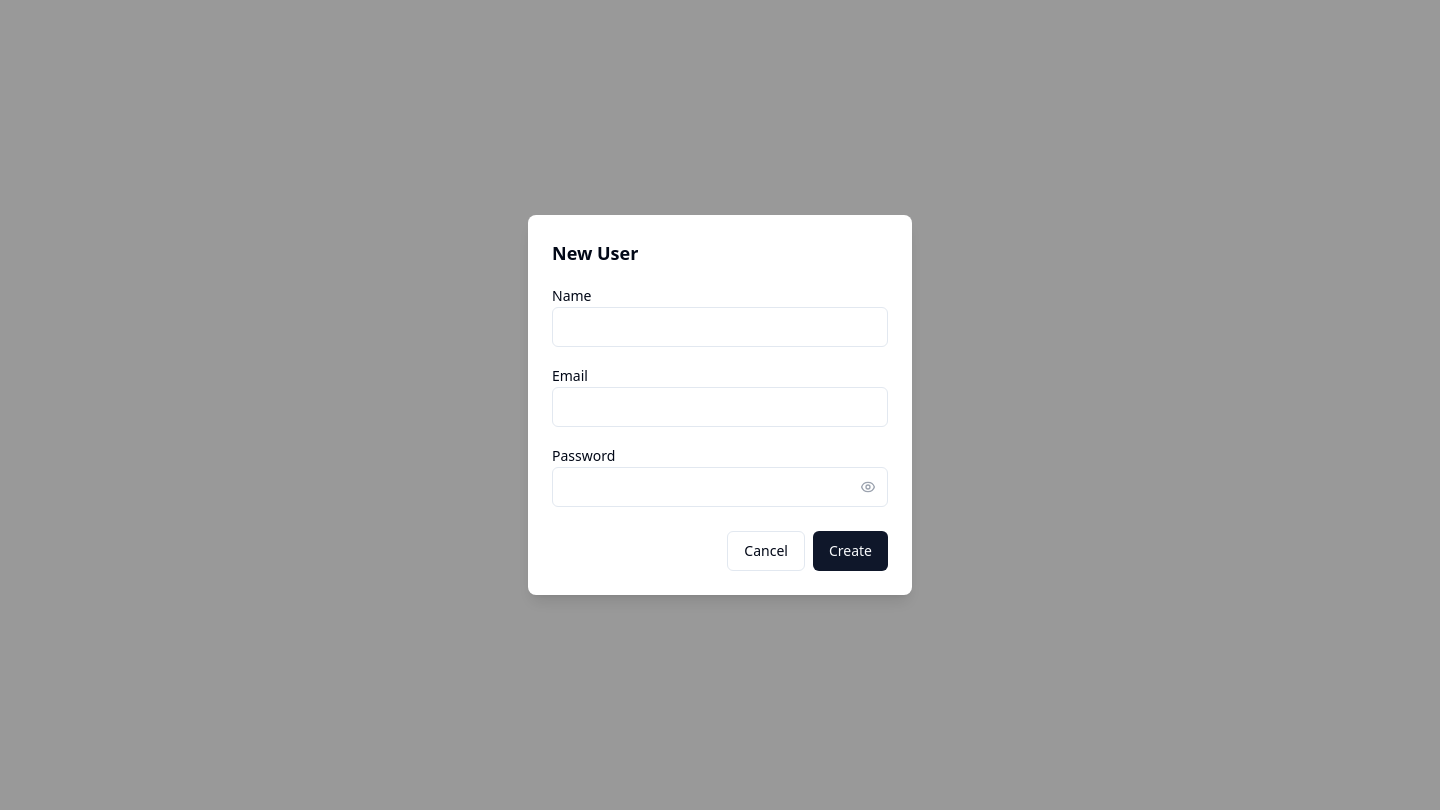
CreateUserModal › validation › shows error when password is less than 8 characters
In the field labelled "Name": (720, 327) [552,307,888,347], type "Alice"
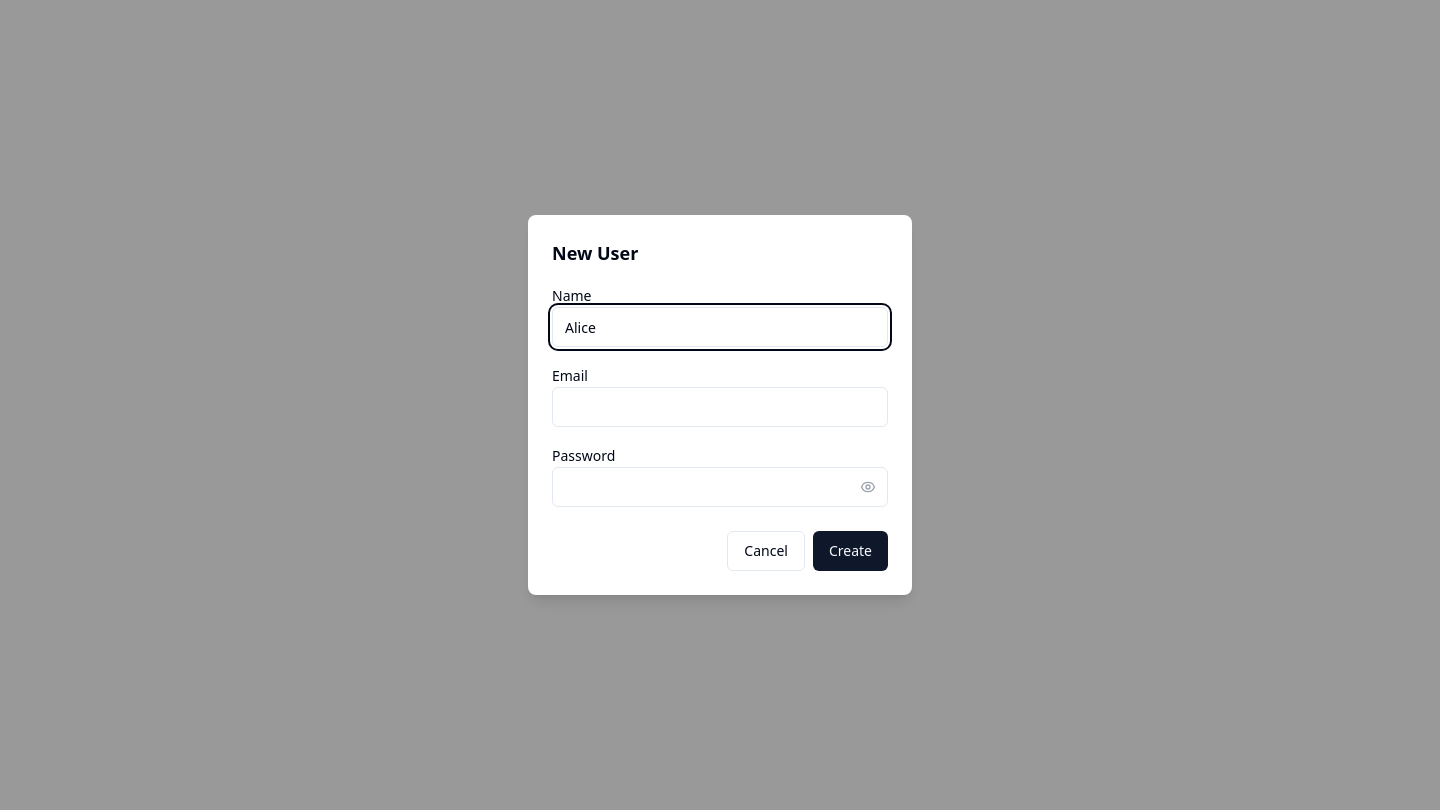
In the field labelled "Email": (720, 407) [552,387,888,427], type "alice@example.com"
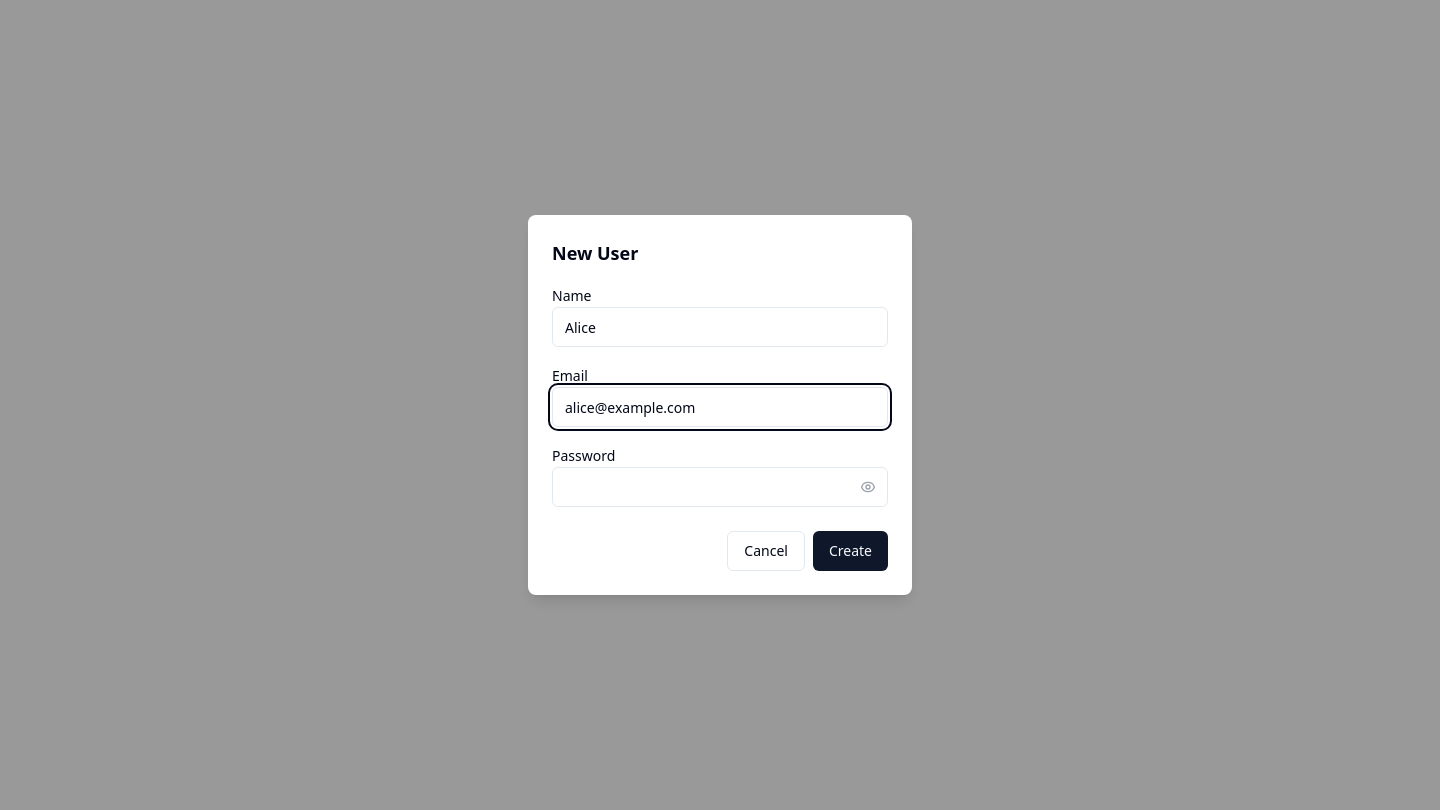
In the password field labelled "Password": (720, 487) [552,467,888,507], type "short"
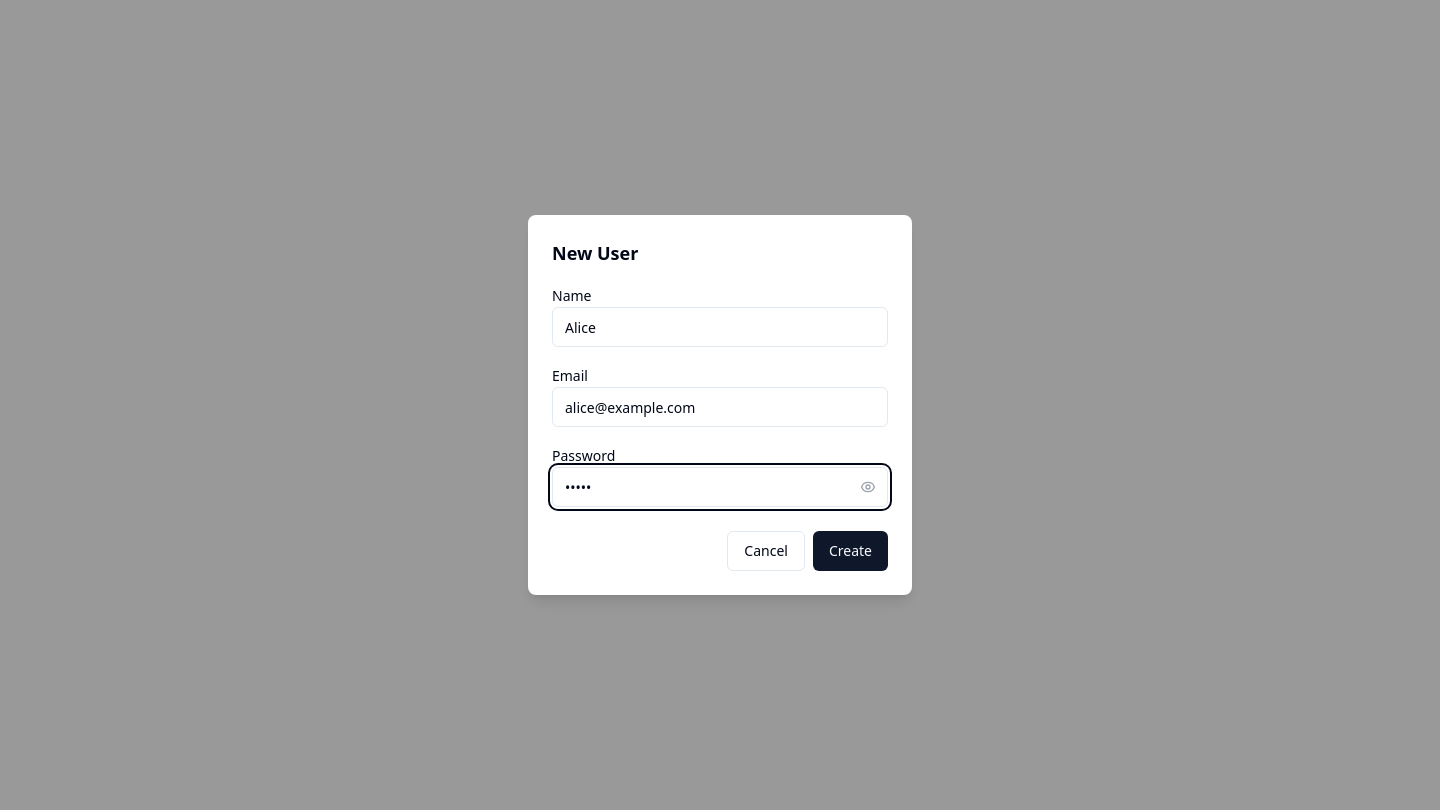
Click the button "Create": (850, 551) [813,531,888,571]
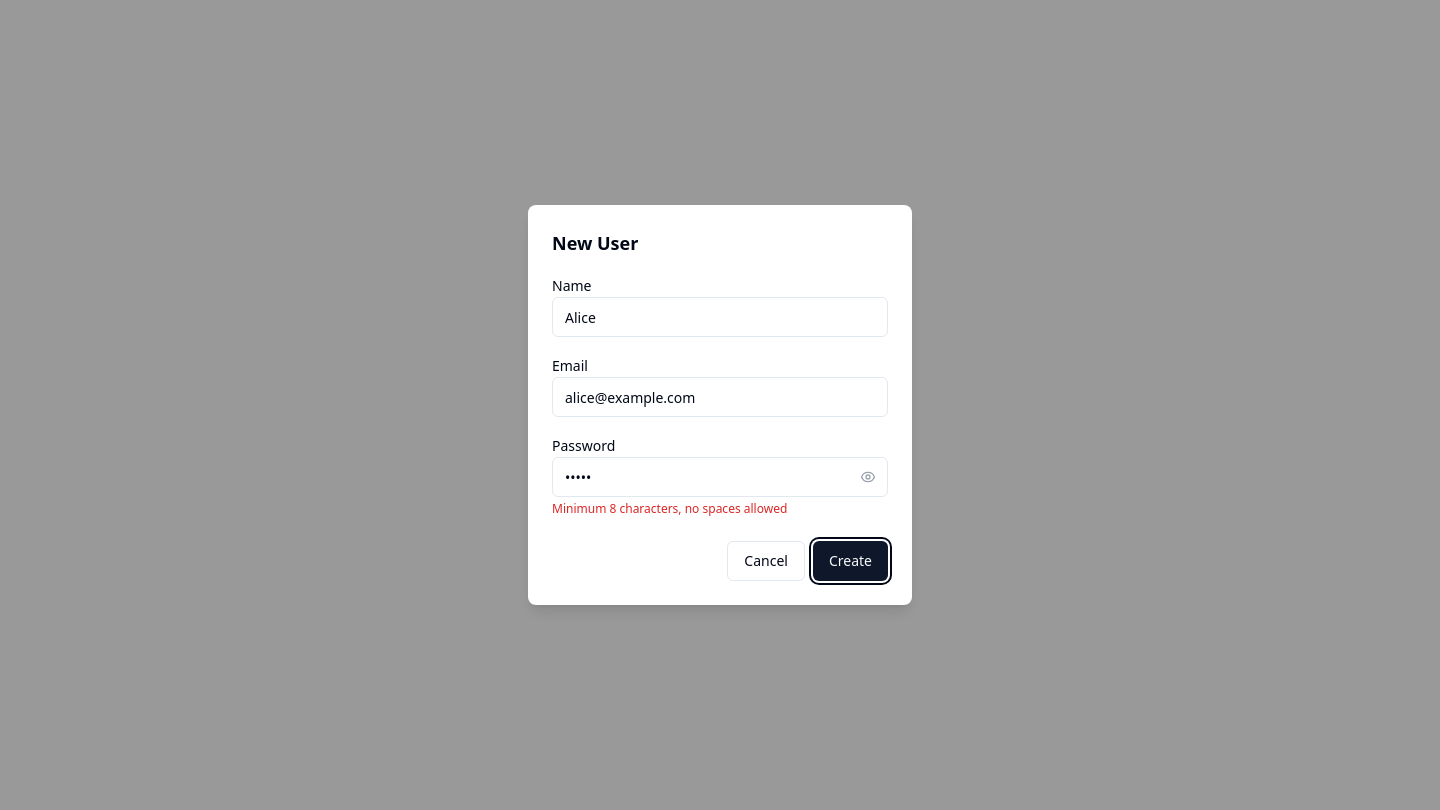
Expected: the text "Minimum 8 characters, no spaces allowed" is shown, [552,500,787,517]
